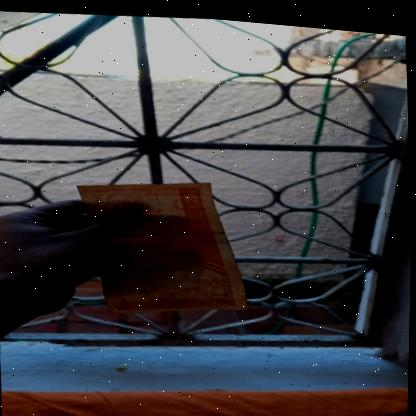vef_back: (73, 165, 252, 324)
